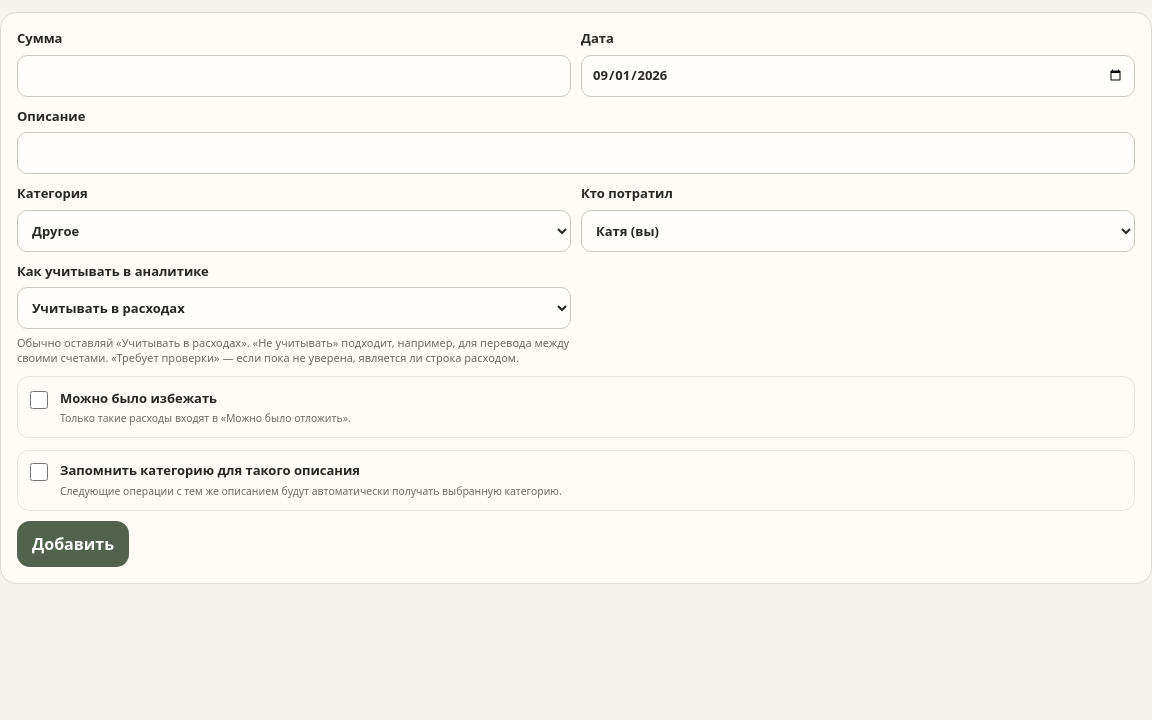
Test: manual entry forms › shows the same confirmation for a manually added expense
Type "1200" into the field labelled "Сумма".
click(294, 76); type("1200")  # box [17,54,571,96]
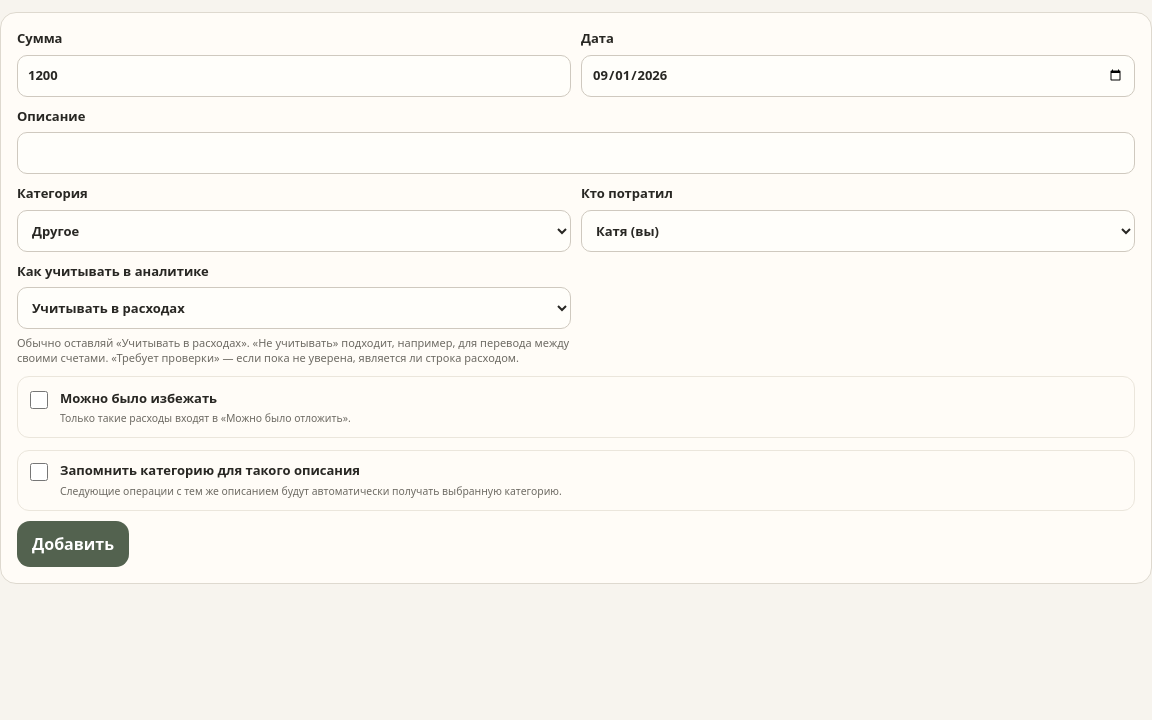
Type "Кофе" into the field labelled "Описание".
click(576, 153); type("Кофе")  # box [17,132,1135,174]
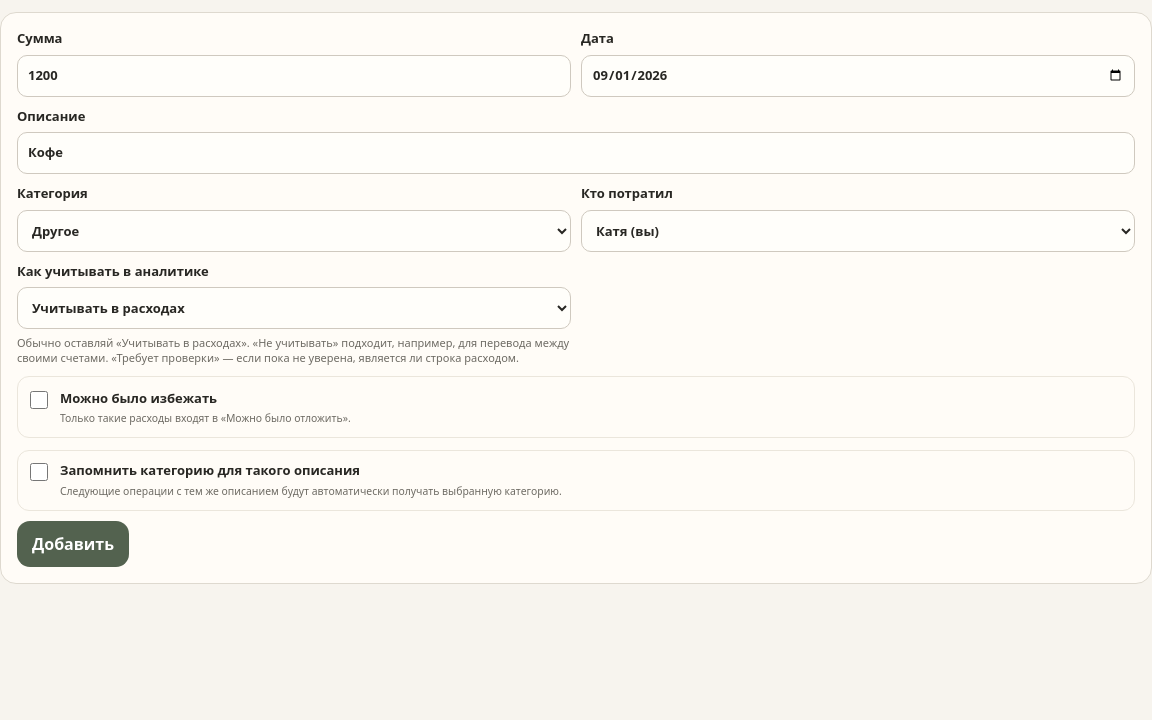
Click the button "Добавить".
click(73, 544)  # box [17,521,129,567]
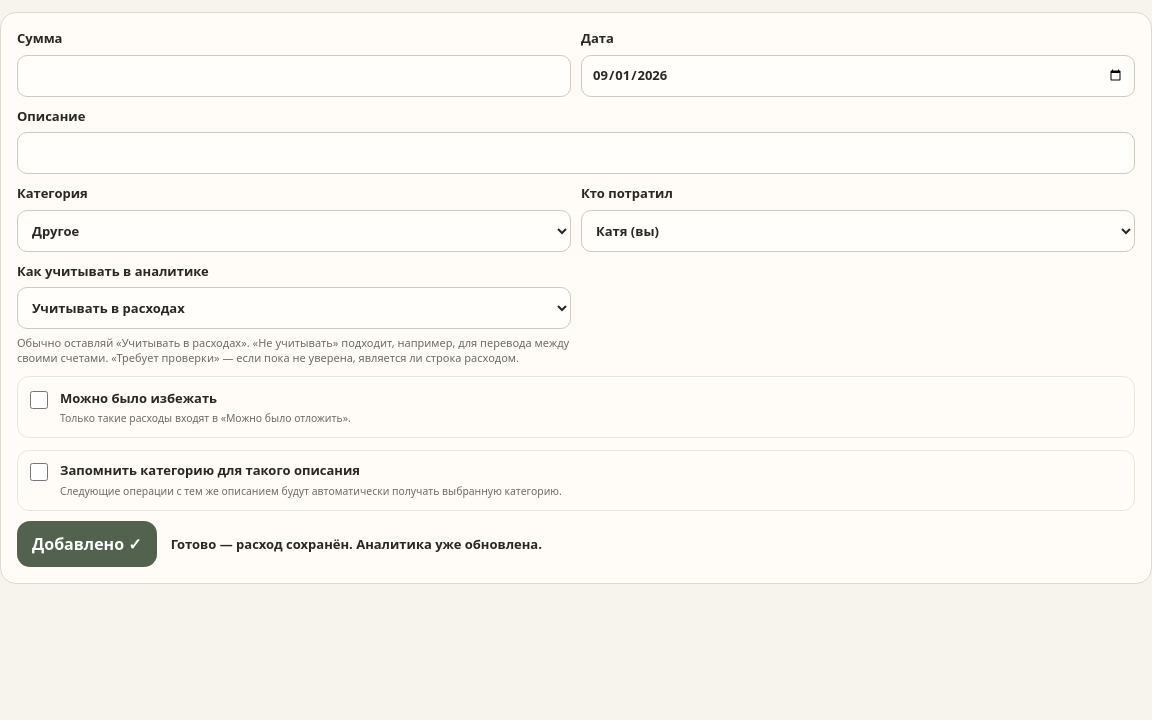
Expected: the button "Добавлено ✓" is shown, [17,521,157,567]
Expected: the message shows "расход сохранён", [171,535,542,553]
